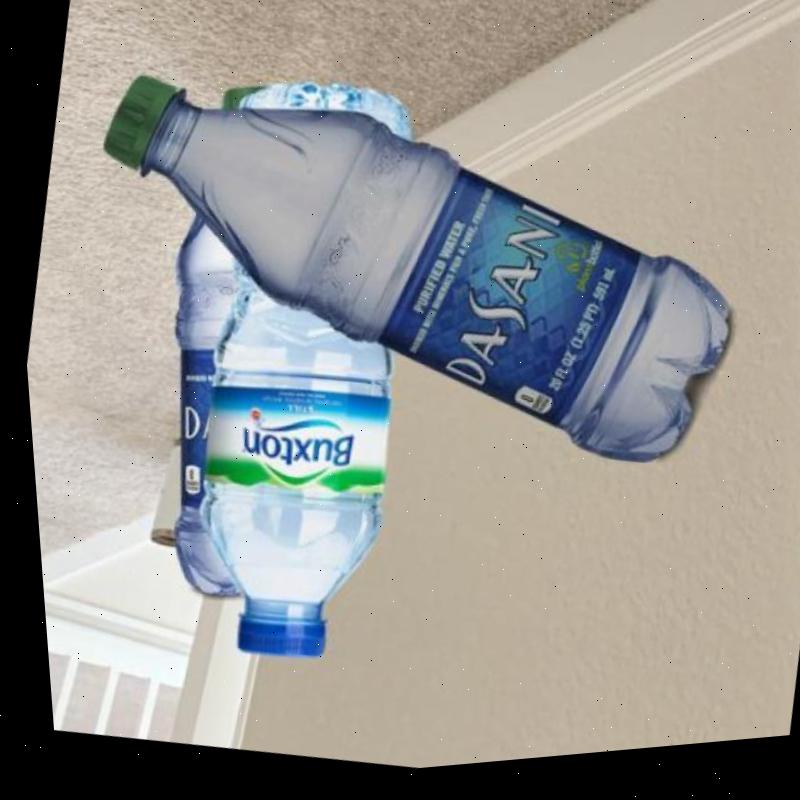botella: (46, 28, 765, 522), (125, 71, 465, 686), (101, 75, 339, 617)
